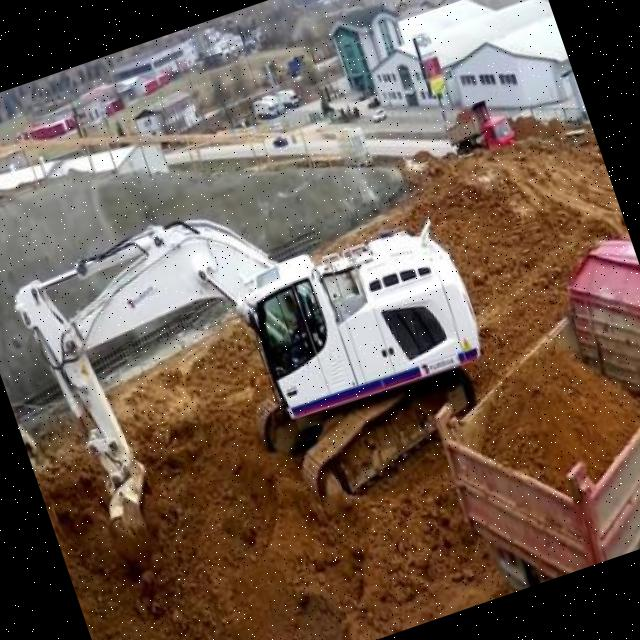Dump Truck: (384, 225, 640, 601), (434, 92, 518, 164)
Excavator: (0, 115, 525, 581)
